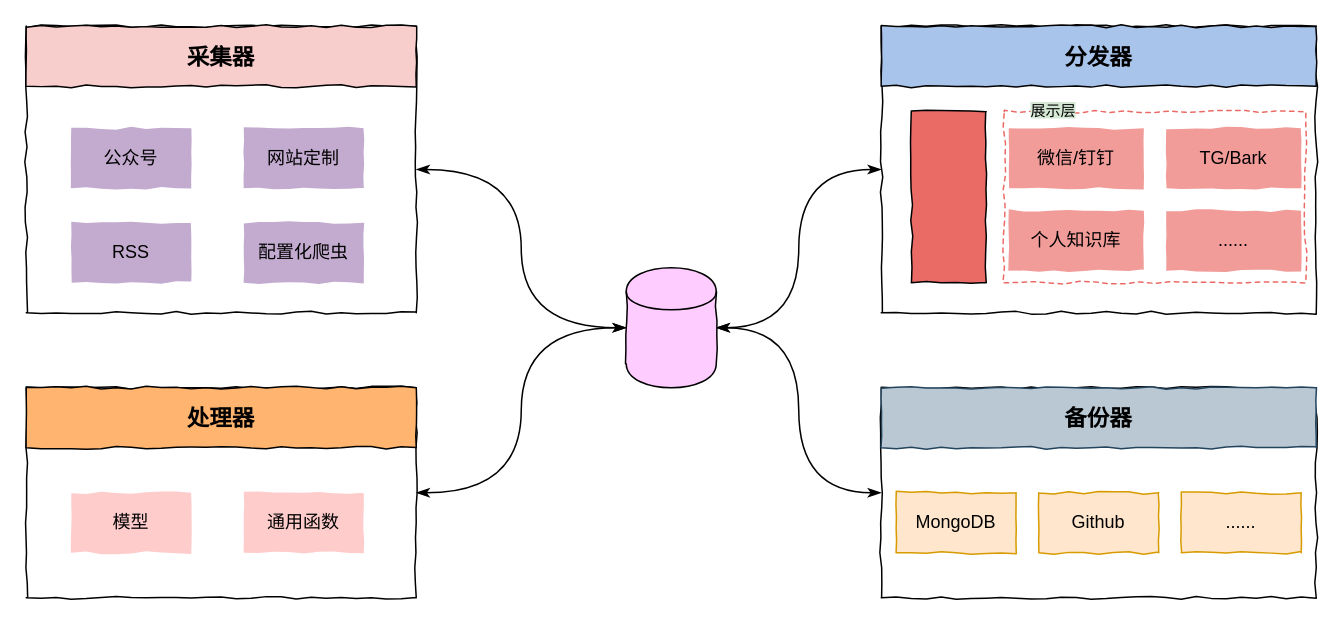
Some shapes in this 1343 by 624 pixel diagram are drawn without their labels. Here are the shapes that lost their labels. From the top down, the centre of each, then its label:
At pixel 948 196: "接 口".
At pixel 670 327: "DB".
